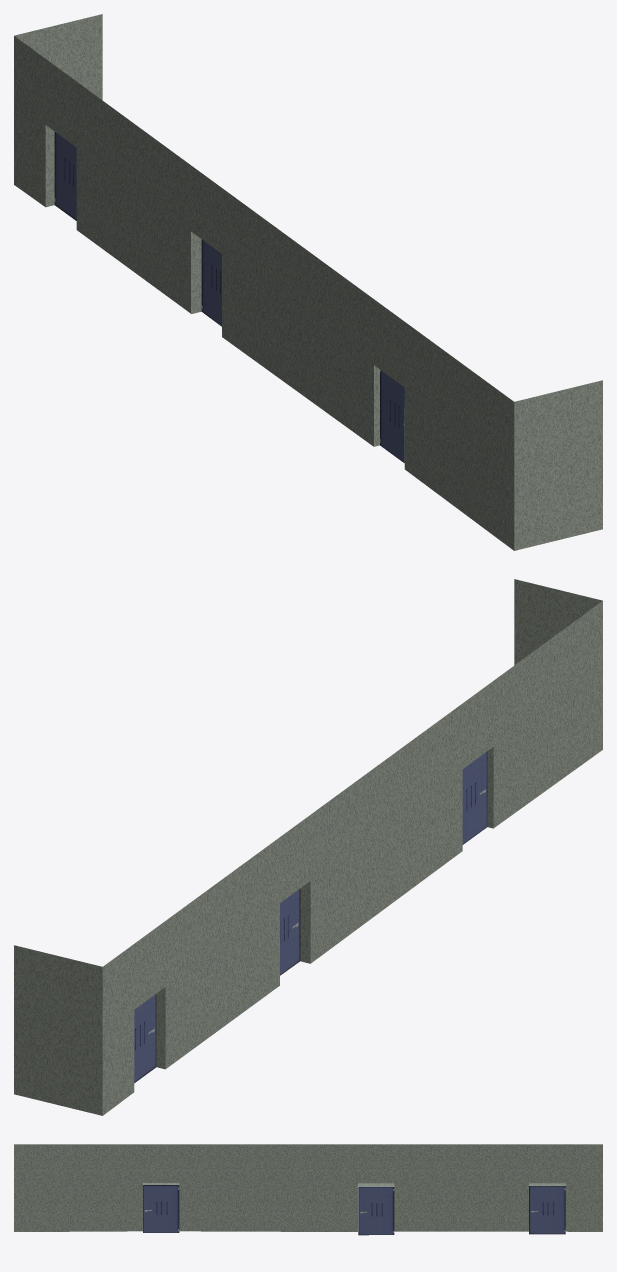
Rendered from BGN_STORAGE SIDE.fbx.
The picture shows the model from 3 angles, top to bottom: view 1: azimuth 30°, elevation 25°; view 2: azimuth 150°, elevation 25°; view 3: azimuth 270°, elevation 25°; orthographic projection. The views are drawn at different scales.
Parts seen in each view (by area): view 1: BGN_STORAGE_SIDE; view 2: BGN_STORAGE_SIDE; view 3: BGN_STORAGE_SIDE.
Boxes of the visible parts, bbox=[...] form: BGN_STORAGE_SIDE: bbox=[14, 14, 602, 550]; BGN_STORAGE_SIDE: bbox=[14, 579, 602, 1115]; BGN_STORAGE_SIDE: bbox=[14, 1144, 602, 1235].
Bounding box in the file's own units: 252 × 405 × 2460.
